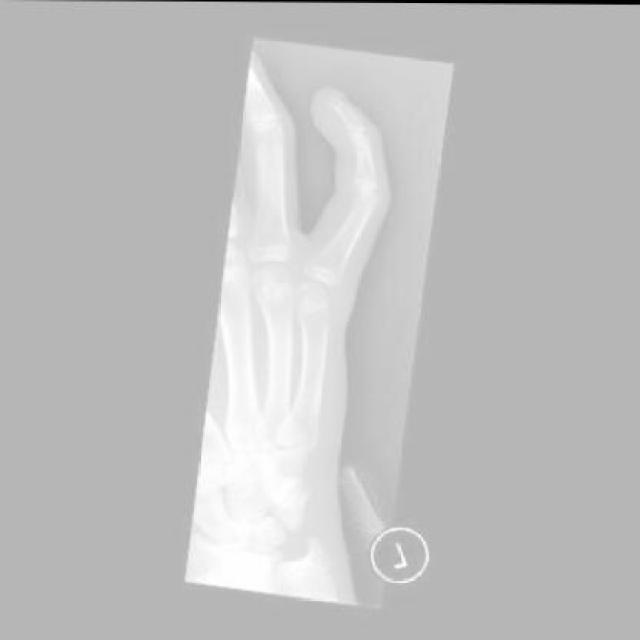Fracture: (343, 115, 371, 134)
